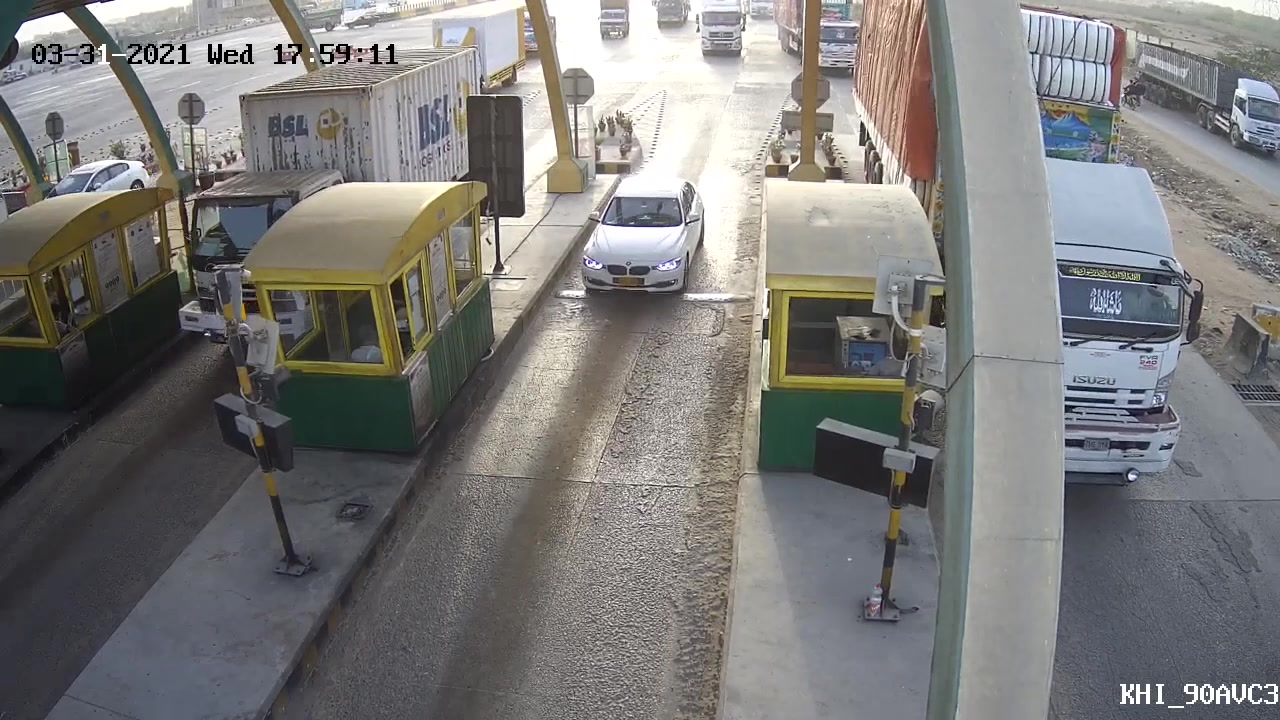F1: (577, 177, 714, 313)
